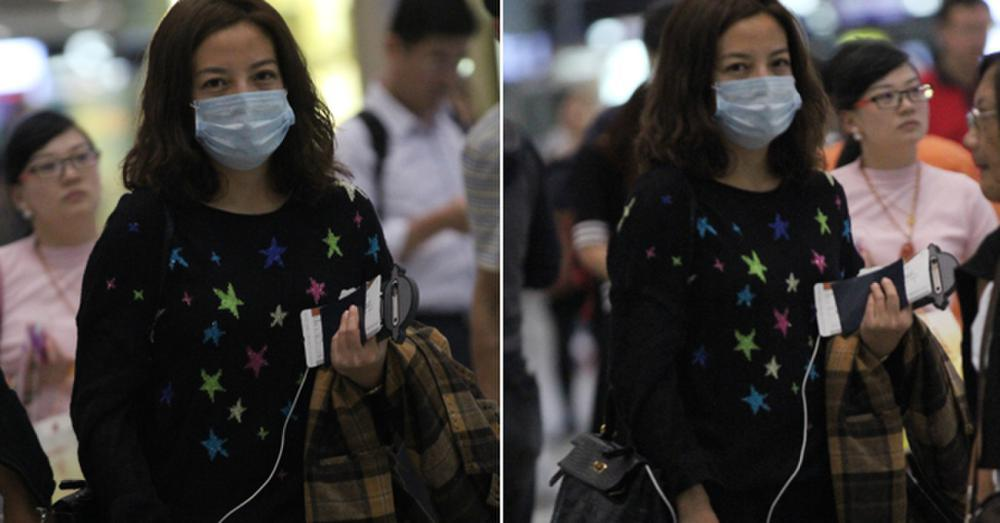NONE: (30, 141, 101, 214), (859, 72, 929, 145), (956, 101, 1000, 199)
OK: (176, 54, 287, 165), (713, 45, 815, 147)
